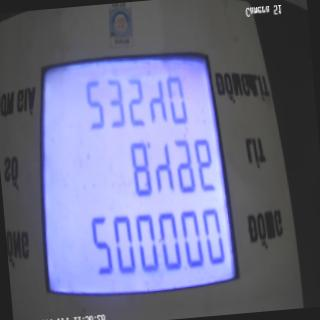screen: (21, 27, 245, 320)
